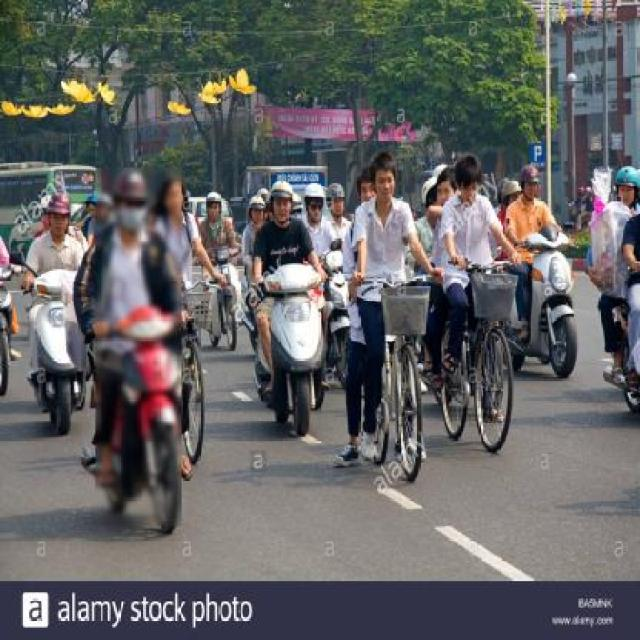helmet: (79, 143, 161, 238)
motorcycle: (33, 152, 200, 528)
